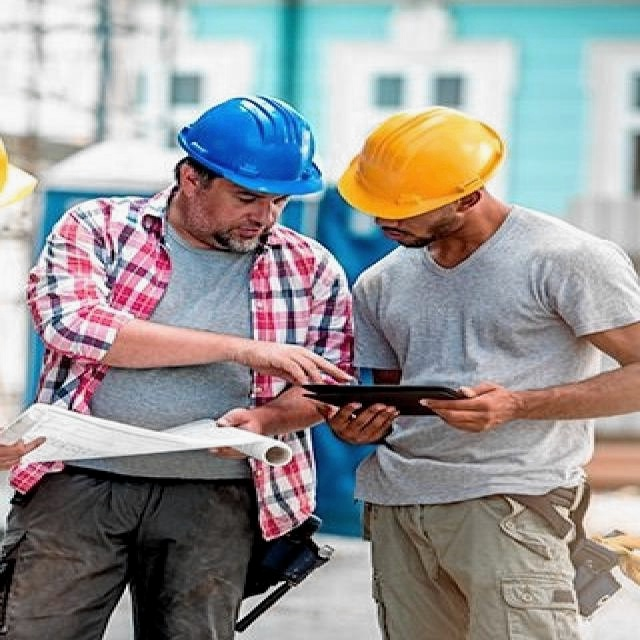Con_Casco: (170, 90, 329, 242), (351, 111, 506, 230)
